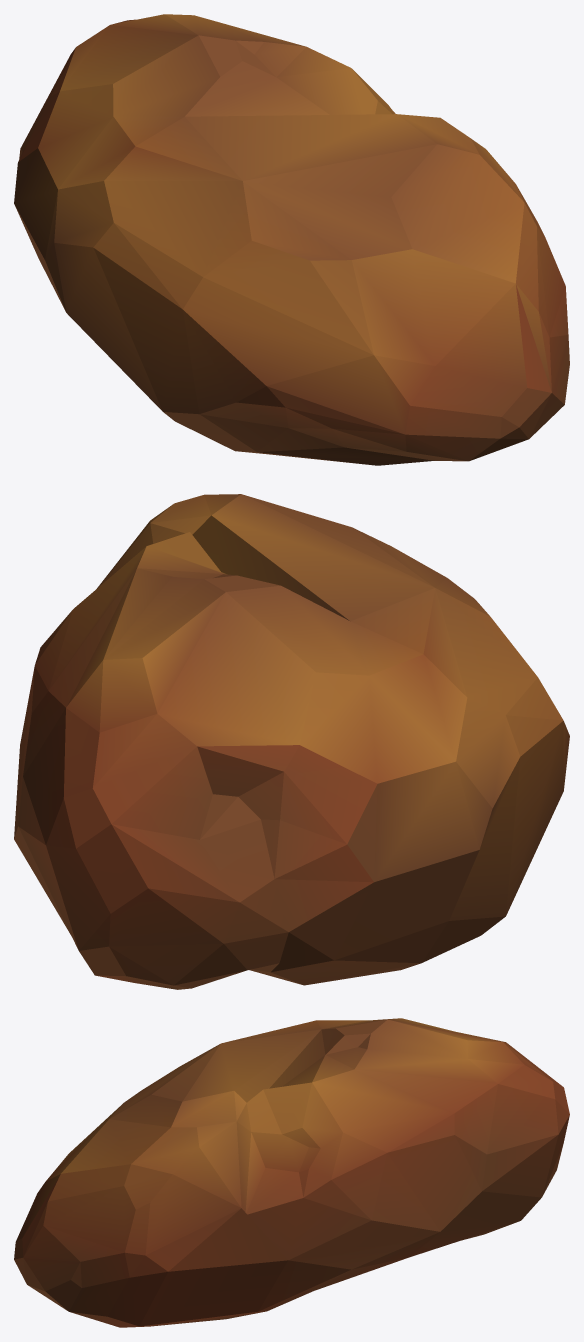
The model's file is rockV2--2.fbx.
The picture shows the model from 3 angles, top to bottom: view 1: azimuth 30°, elevation 25°; view 2: azimuth 150°, elevation 25°; view 3: azimuth 270°, elevation 25°; orthographic projection. The views are drawn at different scales.
Visible parts, largest first — view 1: rock2_retopo; view 2: rock2_retopo; view 3: rock2_retopo.
Part boxes in pixels (x1,y1,x2,y2): rock2_retopo: (14, 14, 569, 465); rock2_retopo: (14, 494, 569, 989); rock2_retopo: (14, 1018, 569, 1327).
Size of the model in its own units: 187 by 150 by 281.
